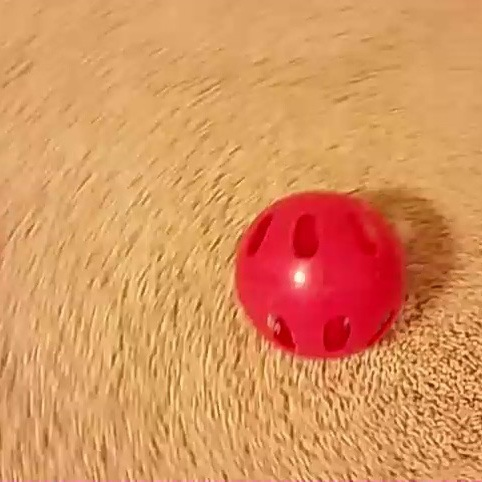redball: (229, 187, 414, 365)
